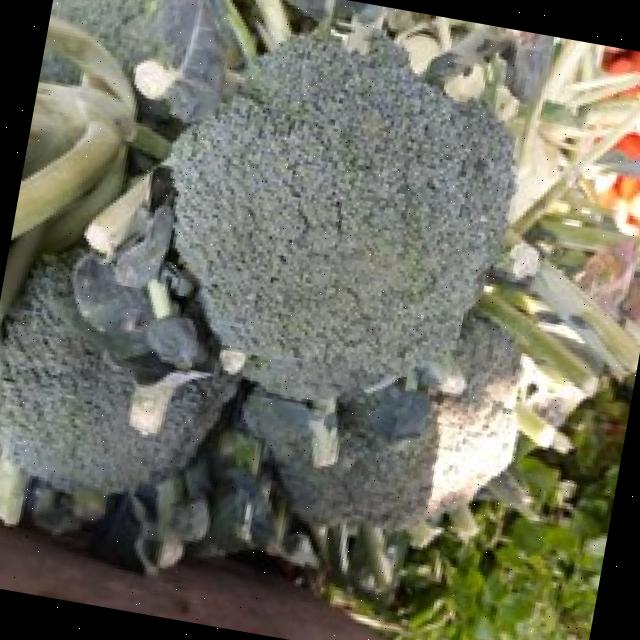Broccoli: (168, 38, 520, 528), (167, 38, 512, 397), (167, 38, 511, 397), (0, 249, 235, 492), (50, 0, 203, 77)
